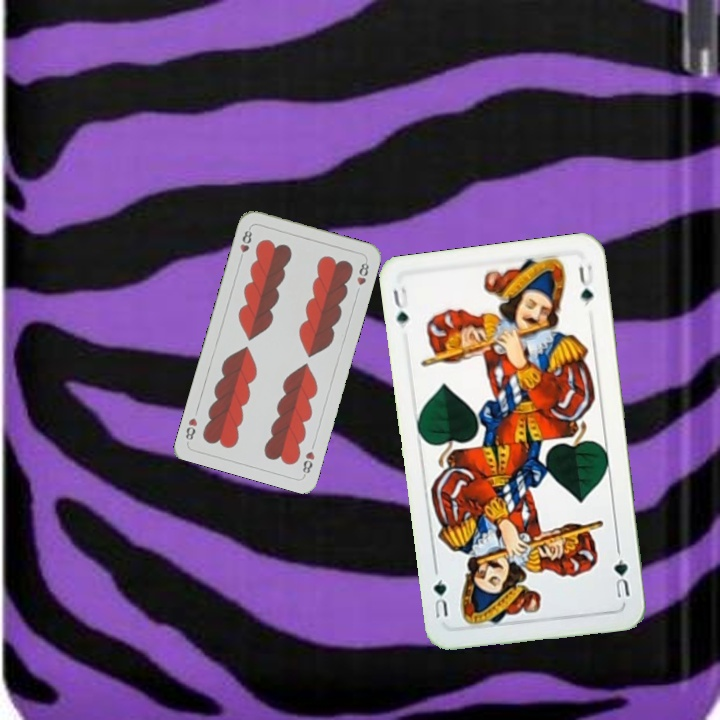GU: (610, 545, 633, 601), (389, 282, 411, 331)
H8: (236, 224, 255, 264), (298, 447, 317, 478)
